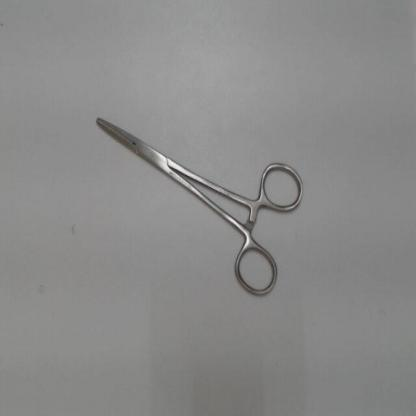Mayo Needle Holder: (79, 100, 312, 306)
